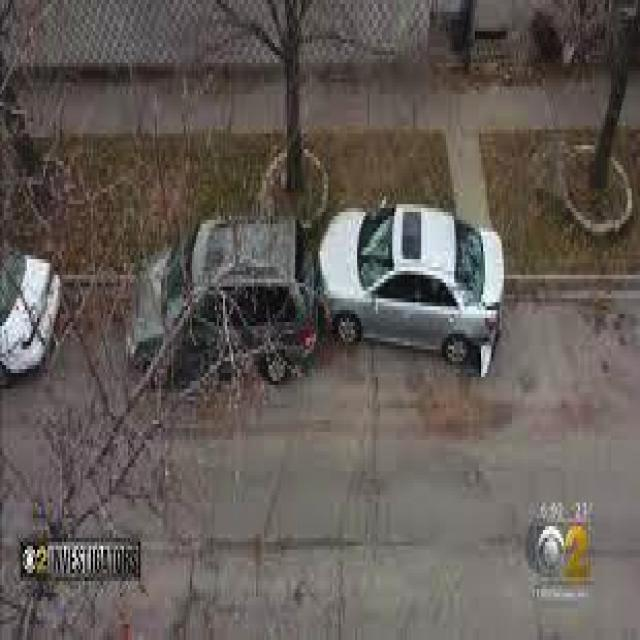car Accident: (110, 136, 505, 419)
